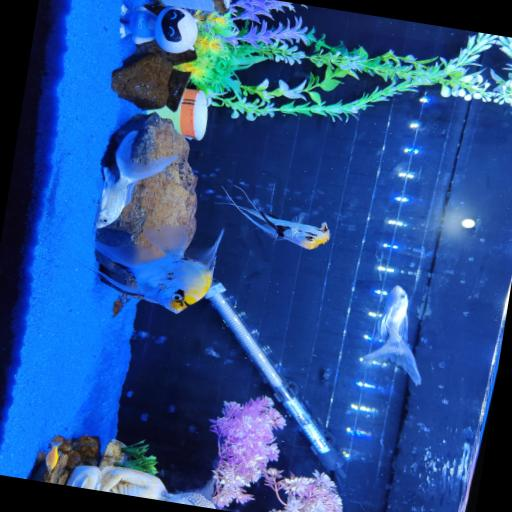Fish: (93, 225, 222, 313), (94, 131, 176, 228), (217, 188, 329, 249), (363, 286, 420, 385), (45, 442, 60, 469)
